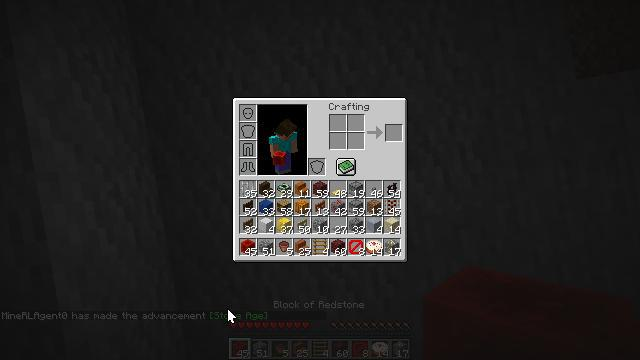cursor: (227, 308, 237, 324)
